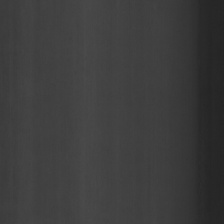silk_spot: (14, 36, 36, 63)
